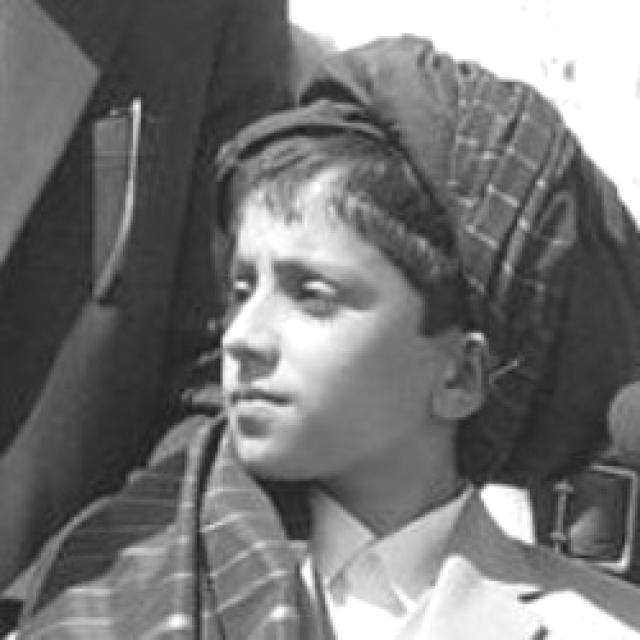real: (222, 142, 466, 488), (230, 262, 362, 320)
